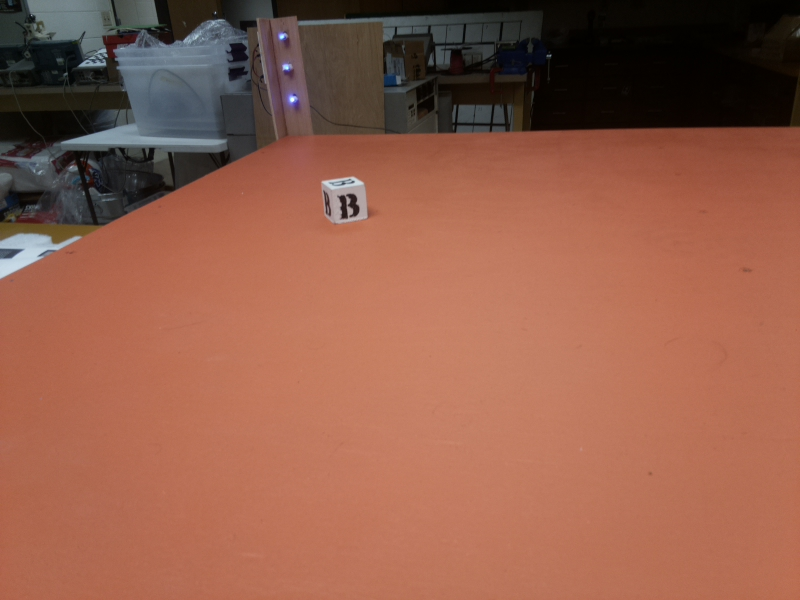blockB: (321, 176, 369, 227)
corner: (250, 13, 325, 139)
